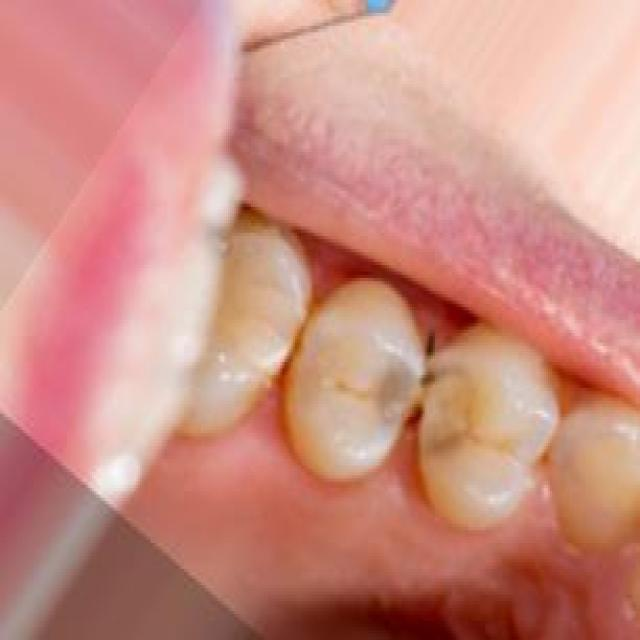caries: (360, 323, 485, 478)
